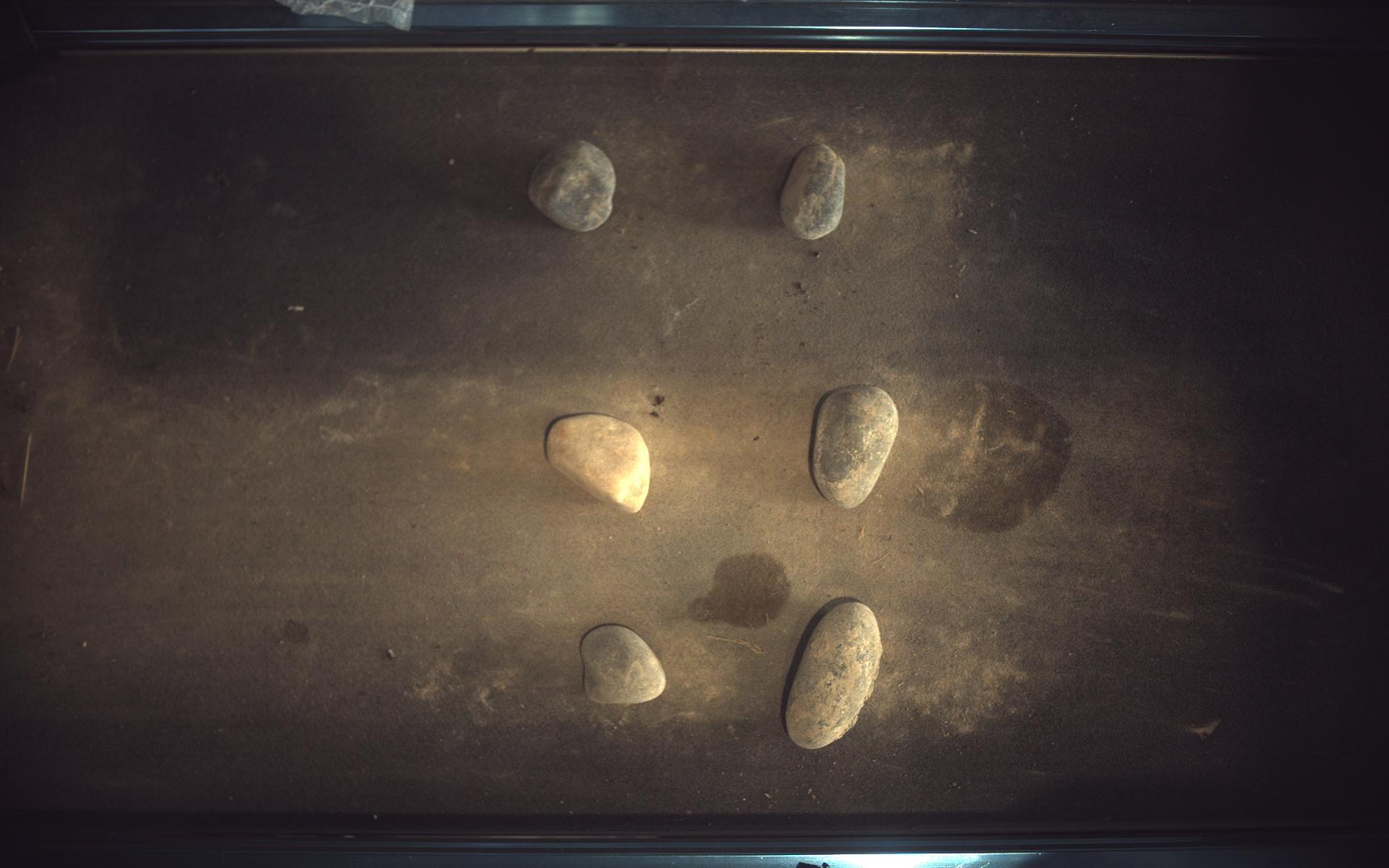stone: (787, 603, 884, 750), (814, 386, 901, 509), (545, 414, 652, 514), (529, 139, 616, 231), (581, 626, 667, 705), (782, 143, 846, 239)
